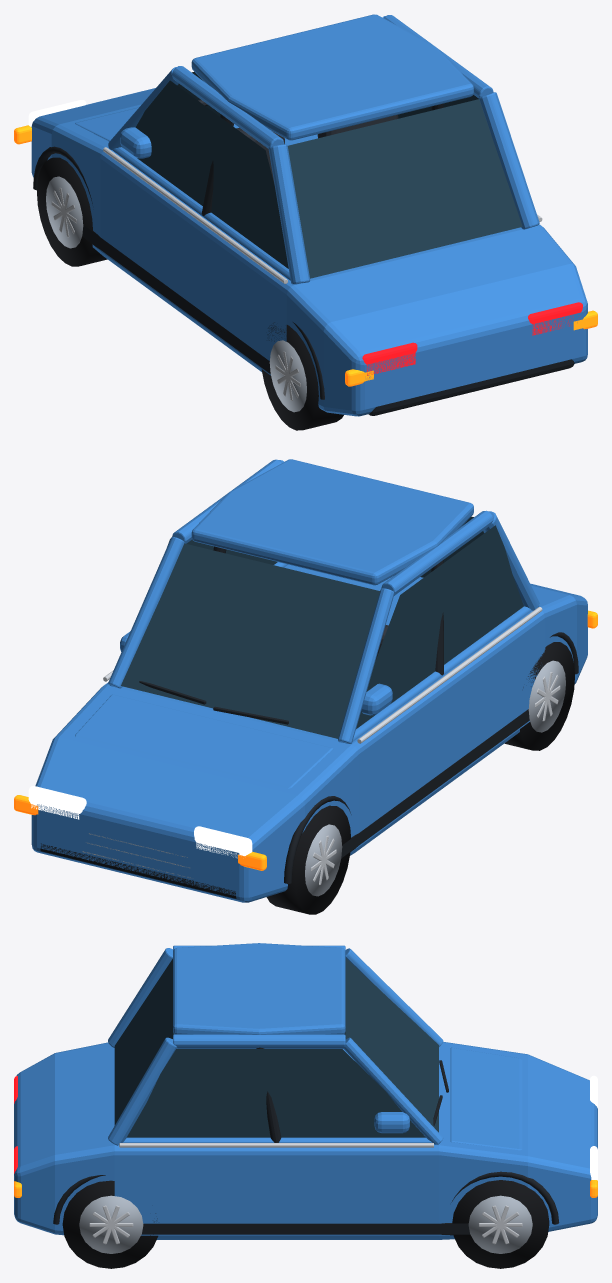
Rendered from compact.glb.
The picture shows the model from 3 angles, top to bottom: view 1: azimuth 30°, elevation 25°; view 2: azimuth 150°, elevation 25°; view 3: azimuth 270°, elevation 25°; orthographic projection. The views are drawn at different scales.
Parts seen in each view (by area): view 1: BODY, GLASS_REAR, ROOF_BODY, GLASS_LEFT, C_PILLAR_L, WHEEL_FL_TIRE, C_PILLAR_R, WHEEL_RL_TIRE, ROCKER_L, ROOF_RAIL_L, BUMPER_REAR, BELT_RAIL_L (+11 smaller); view 2: BODY, GLASS_FRONT, ROOF_BODY, GLASS_LEFT, HOOD_PANEL, WHEEL_FL_TIRE, ROCKER_L, A_PILLAR_L, A_PILLAR_R, WHEEL_RL_TIRE, ROOF_RAIL_L, BELT_RAIL_L (+10 smaller); view 3: BODY, GLASS_RIGHT, ROOF_BODY, GLASS_FRONT, HOOD_PANEL, GLASS_REAR, ROCKER_R, WHEEL_FR_TIRE, WHEEL_RR_TIRE, ROOF_RAIL_R, WHEEL_FR_RIM, WHEEL_RR_RIM (+11 smaller).
Boxes of the visible parts, x1,y1,x2,y2 form: BODY: (31, 88, 587, 416); GLASS_REAR: (287, 99, 522, 278); ROOF_BODY: (191, 14, 473, 140); GLASS_LEFT: (122, 80, 288, 268); C_PILLAR_L: (268, 144, 310, 284); WHEEL_FL_TIRE: (37, 157, 107, 266); C_PILLAR_R: (478, 92, 539, 229); WHEEL_RL_TIRE: (261, 322, 343, 430); ROCKER_L: (82, 225, 270, 373); ROOF_RAIL_L: (172, 66, 284, 148); BUMPER_REAR: (368, 359, 574, 415); BELT_RAIL_L: (112, 147, 299, 284); BODY: (31, 564, 587, 902); GLASS_FRONT: (121, 543, 379, 738); ROOF_BODY: (191, 459, 473, 585); GLASS_LEFT: (356, 525, 523, 728); HOOD_PANEL: (75, 694, 332, 788); WHEEL_FL_TIRE: (266, 805, 351, 914); ROCKER_L: (341, 709, 529, 857); A_PILLAR_L: (338, 588, 394, 743); A_PILLAR_R: (108, 537, 184, 688); WHEEL_RL_TIRE: (504, 642, 574, 750); ROOF_RAIL_L: (381, 510, 493, 595); BELT_RAIL_L: (346, 606, 531, 743); BODY: (14, 1041, 597, 1239); GLASS_RIGHT: (127, 1049, 425, 1137); ROOF_BODY: (173, 943, 345, 1034); GLASS_FRONT: (345, 958, 438, 1132); HOOD_PANEL: (450, 1047, 522, 1150); GLASS_REAR: (114, 959, 172, 1125); ROCKER_R: (141, 1223, 470, 1235); WHEEL_FR_TIRE: (452, 1180, 549, 1268); WHEEL_RR_TIRE: (62, 1180, 158, 1268); ROOF_RAIL_R: (173, 1034, 345, 1048); WHEEL_FR_RIM: (468, 1195, 532, 1253); WHEEL_RR_RIM: (79, 1195, 143, 1253).
Bounding box in the file's own units: 1.61 × 1.55 × 3.6.
